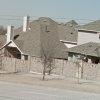Chimney: (4, 11, 32, 43)
